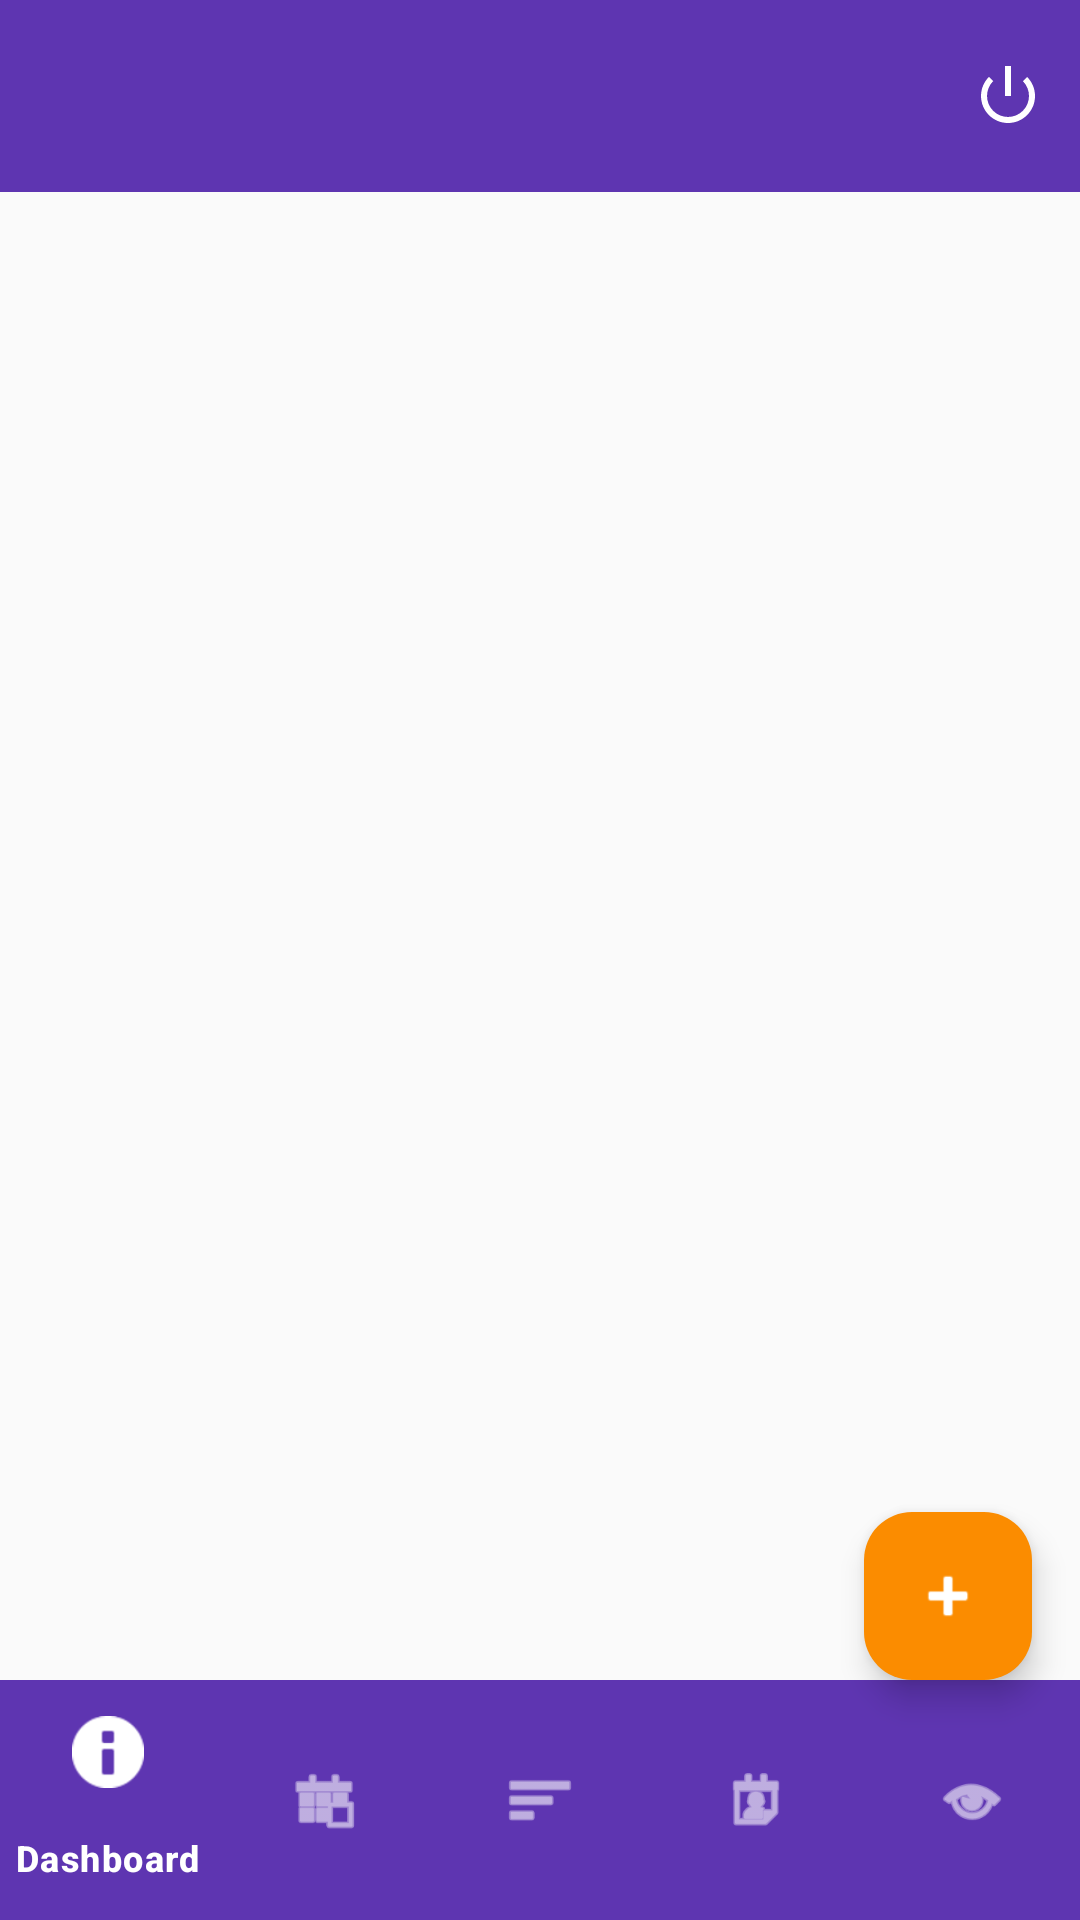

Named icons in this screenshot (1080*1920) and their centers, [x,y]:
Add: [948,1596]
